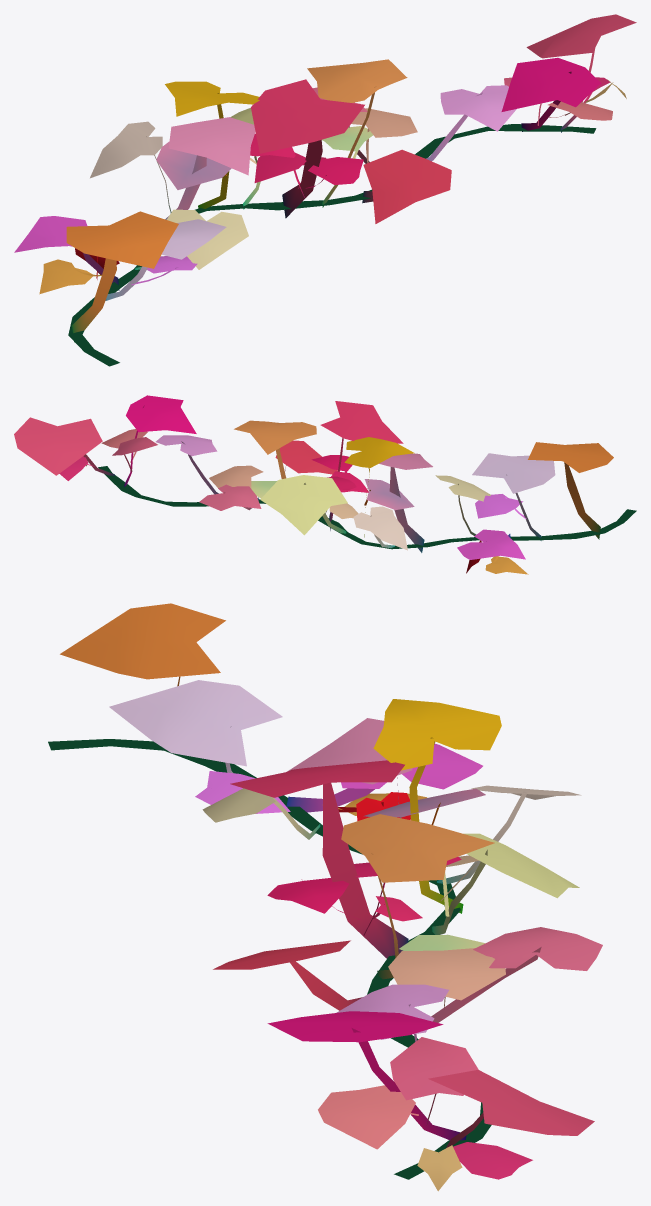
The model's file is English_Ivy_xfcnebhqx_High_xfcnebhqx_VarG_LOD2.fbx.
3 renders of one model, top to bottom at view 1: azimuth 30°, elevation 25°; view 2: azimuth 150°, elevation 25°; view 3: azimuth 270°, elevation 25°, orthographic. The views are drawn at different scales.
Visible parts, largest first — view 1: _7blp_VarG_LOD2; view 2: _7blp_VarG_LOD2; view 3: _7blp_VarG_LOD2.
Boxes of the visible parts, <box> form: _7blp_VarG_LOD2: <box>14,14,636,366</box>; _7blp_VarG_LOD2: <box>14,395,636,574</box>; _7blp_VarG_LOD2: <box>48,603,602,1191</box>.
Size of the model in its own units: 63.54 by 13.56 by 30.5.
